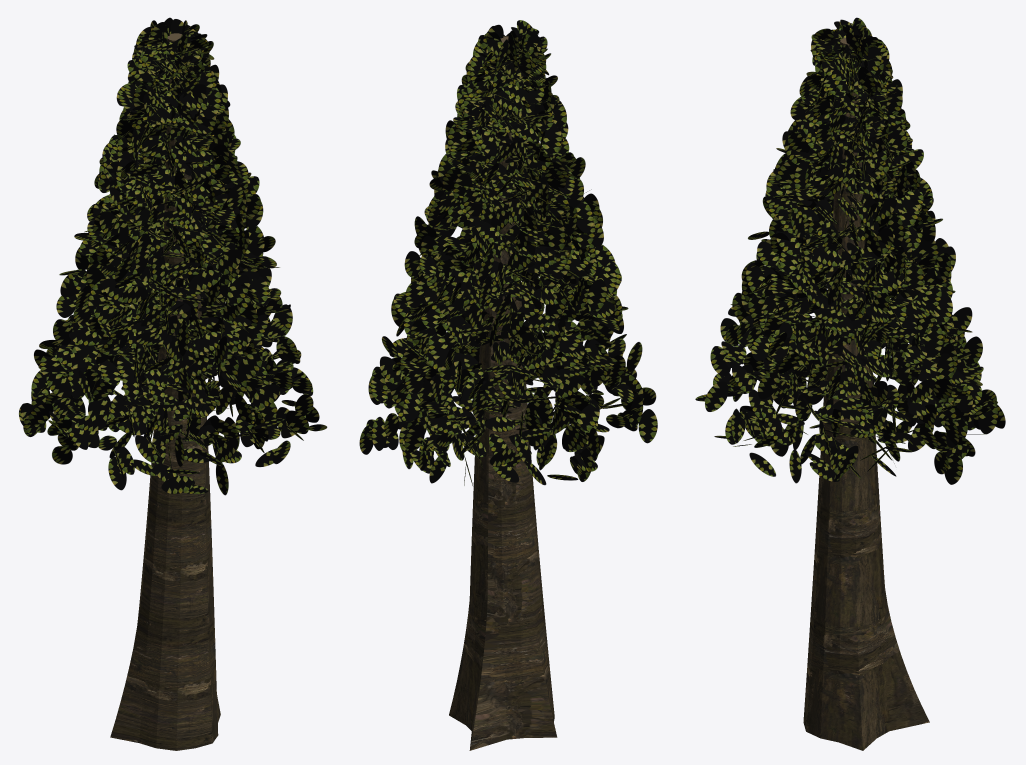
The model's file is bald_cypress_01.glb.
The picture shows the model from 3 angles, left to right: view 1: azimuth 30°, elevation 25°; view 2: azimuth 150°, elevation 25°; view 3: azimuth 270°, elevation 25°; orthographic projection.
Parts seen in each view (by area): view 1: bald_cypress_01; view 2: bald_cypress_01; view 3: bald_cypress_01.
Boxes of the visible parts, <box> form: bald_cypress_01: <box>19,17,327,750</box>; bald_cypress_01: <box>359,20,657,750</box>; bald_cypress_01: <box>695,17,1005,750</box>.
Bounding box in the file's own units: 8.04 × 20.06 × 8.31.
Materials: 2 (2 with a texture image).
